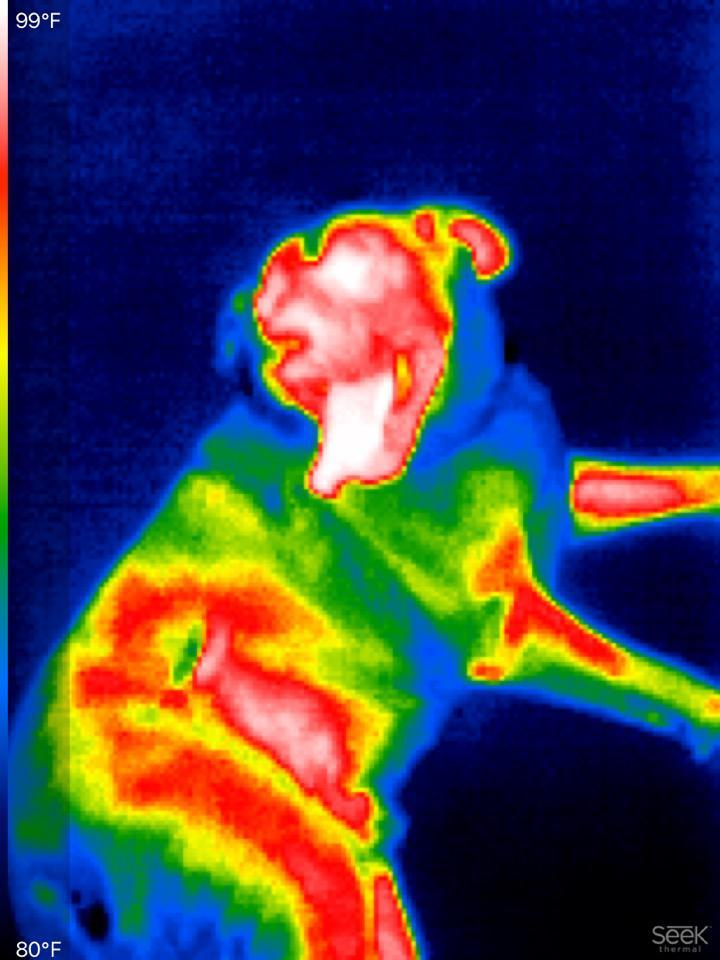dog: (24, 190, 716, 957)
